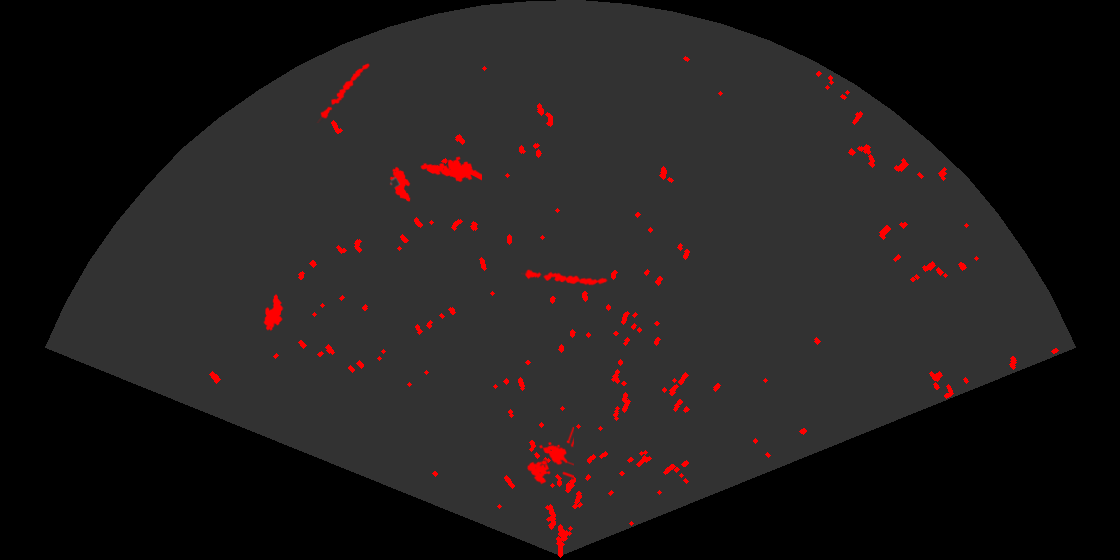AUV: (388, 165, 412, 204), (262, 292, 284, 333)
cage: (525, 427, 574, 486)
chain: (315, 62, 371, 123), (521, 268, 608, 287)
frogman: (419, 155, 482, 184)
